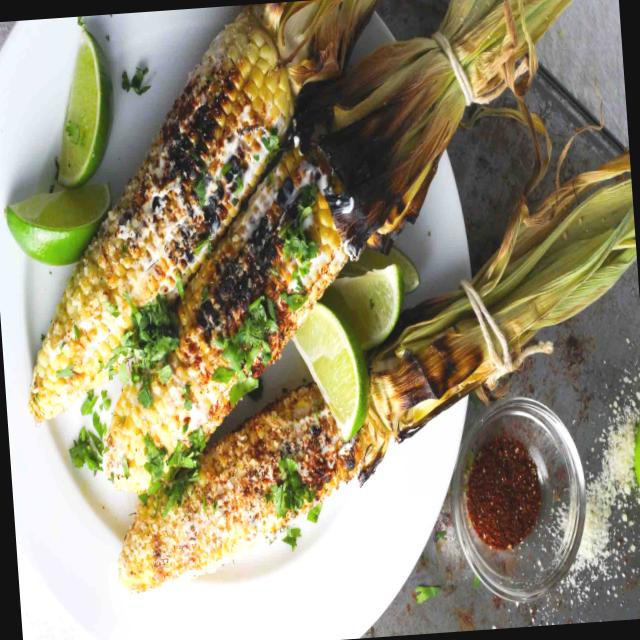corn: (0, 5, 340, 453), (79, 148, 374, 524), (114, 365, 436, 640)
